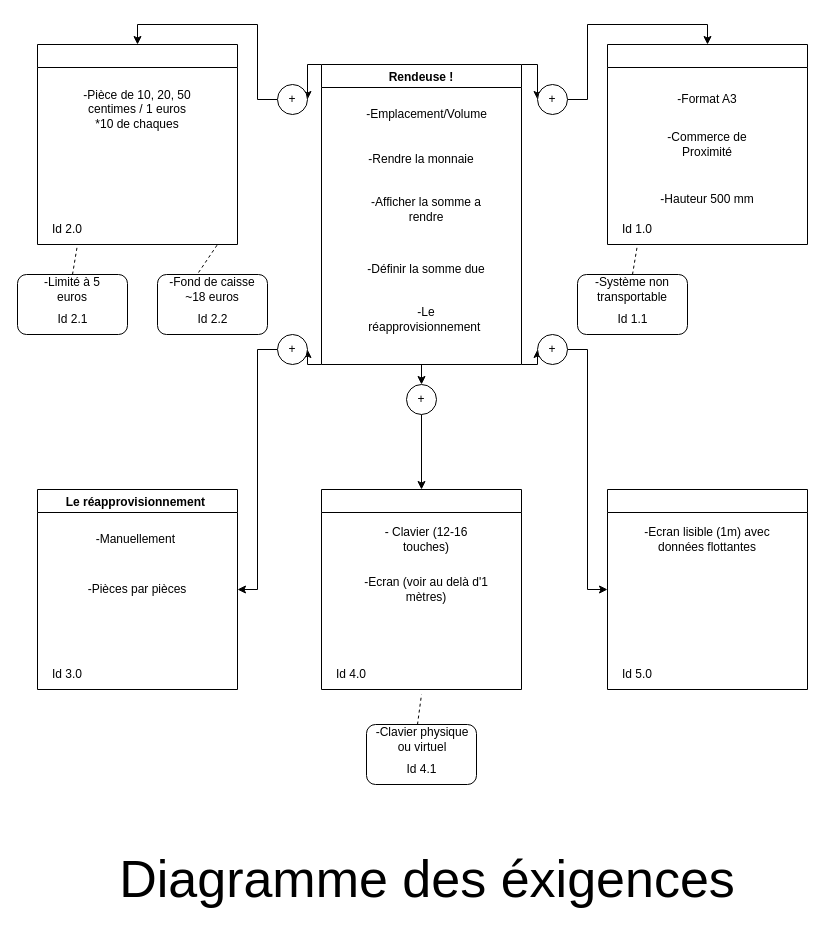
Image size: 825x928. Some labels were removed from this diagram. Here are the shapes that lost their labels. From the top down, the box of each, then its label:
(36, 44, 238, 244): Rendre la monnaie
(606, 44, 808, 244): Emplacment/Volume
(320, 488, 522, 690): Définir la somme due
(606, 488, 808, 690): Afficher la somme a rendre
